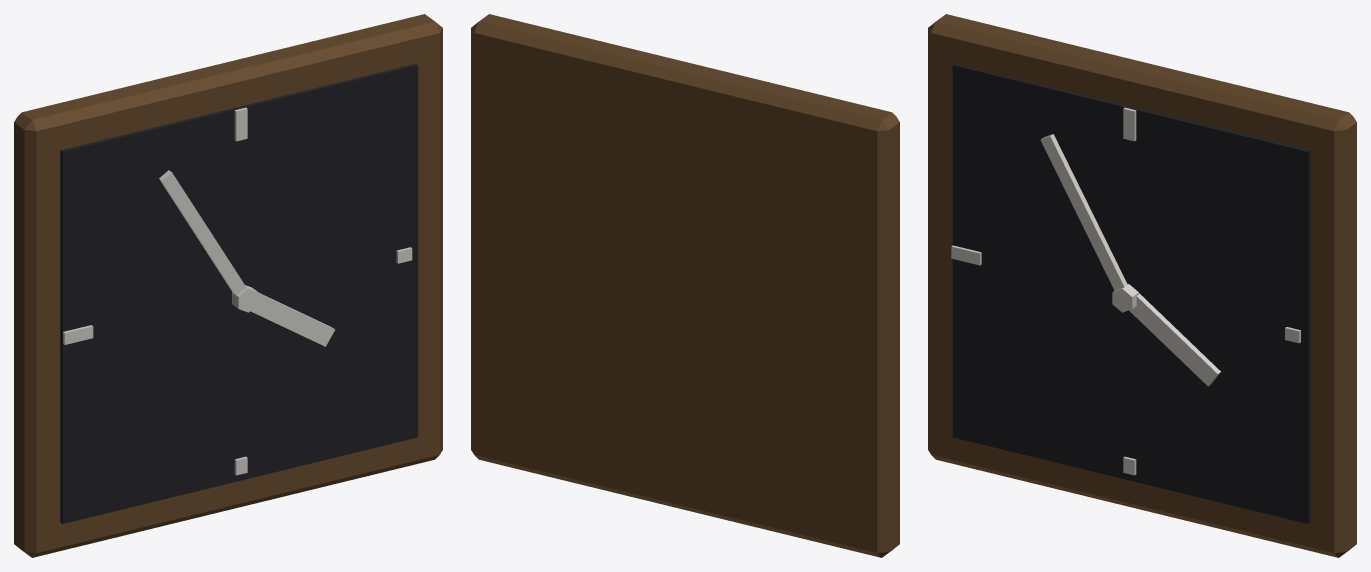
The model's file is wall-clock-16.glb.
3 views of the same model, side by side, from view 1: azimuth 30°, elevation 25°; view 2: azimuth 150°, elevation 25°; view 3: azimuth 330°, elevation 25° (orthographic).
Parts seen in each view (by area): view 1: wall_clock_16; view 2: wall_clock_16; view 3: wall_clock_16.
Part boxes in pixels (x1,y1,x2,y2): wall_clock_16: (14,14,442,557); wall_clock_16: (471,14,899,557); wall_clock_16: (928,14,1356,557).
Bounding box in the file's own units: 0.4381 × 0.4381 × 0.0541.
